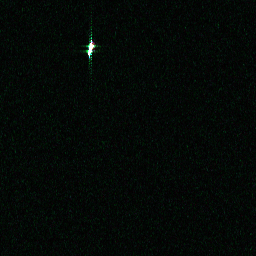ship: (85, 40, 97, 58)
